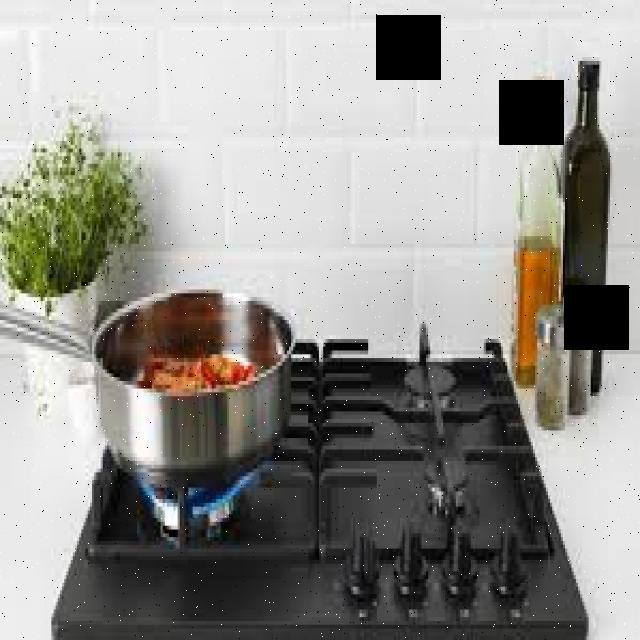Flame: (125, 472, 268, 536)
Pan: (90, 298, 298, 497)
